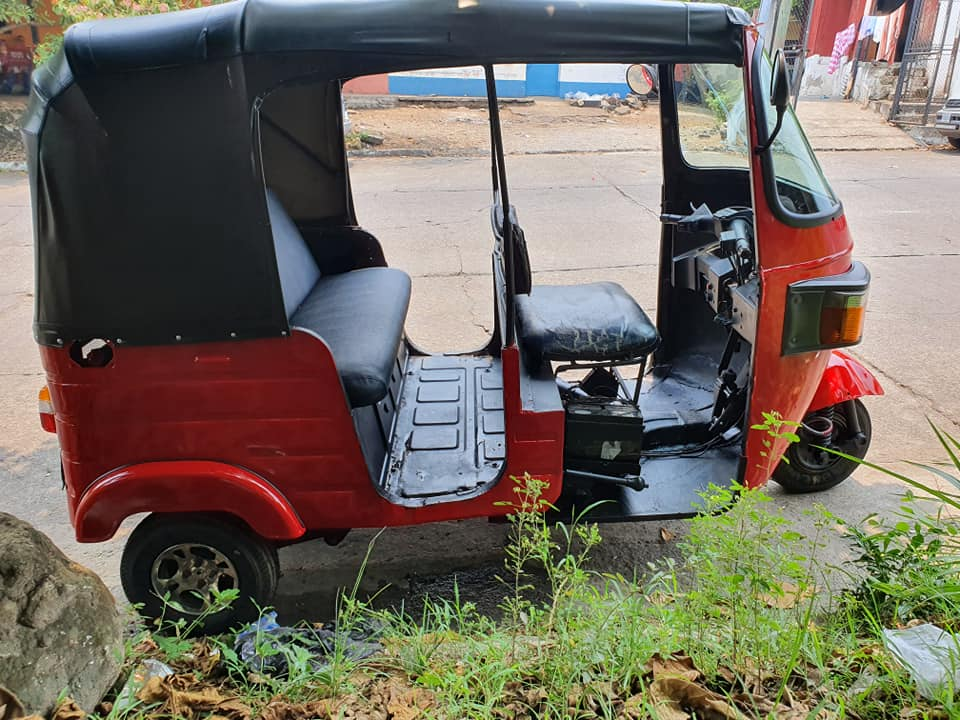mototaxi: (19, 8, 886, 630)
